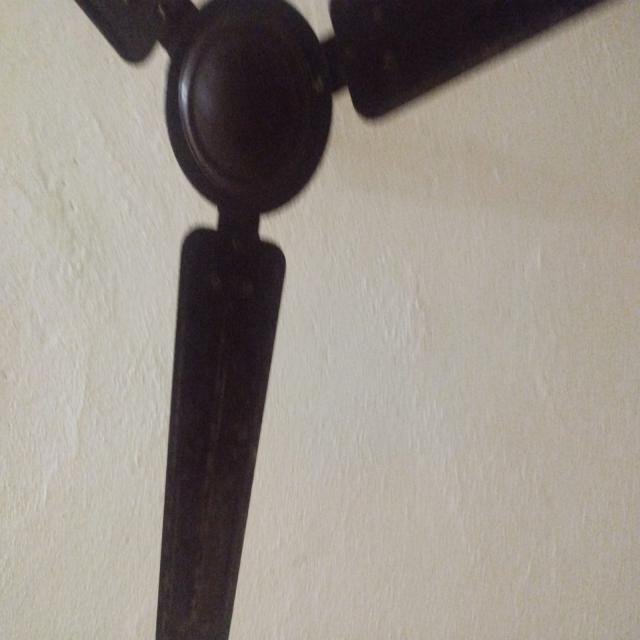fan_off: (71, 0, 640, 640)
